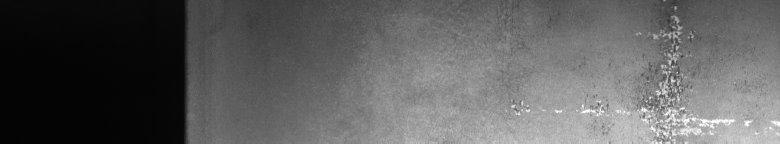hc: (511, 4, 776, 136)
